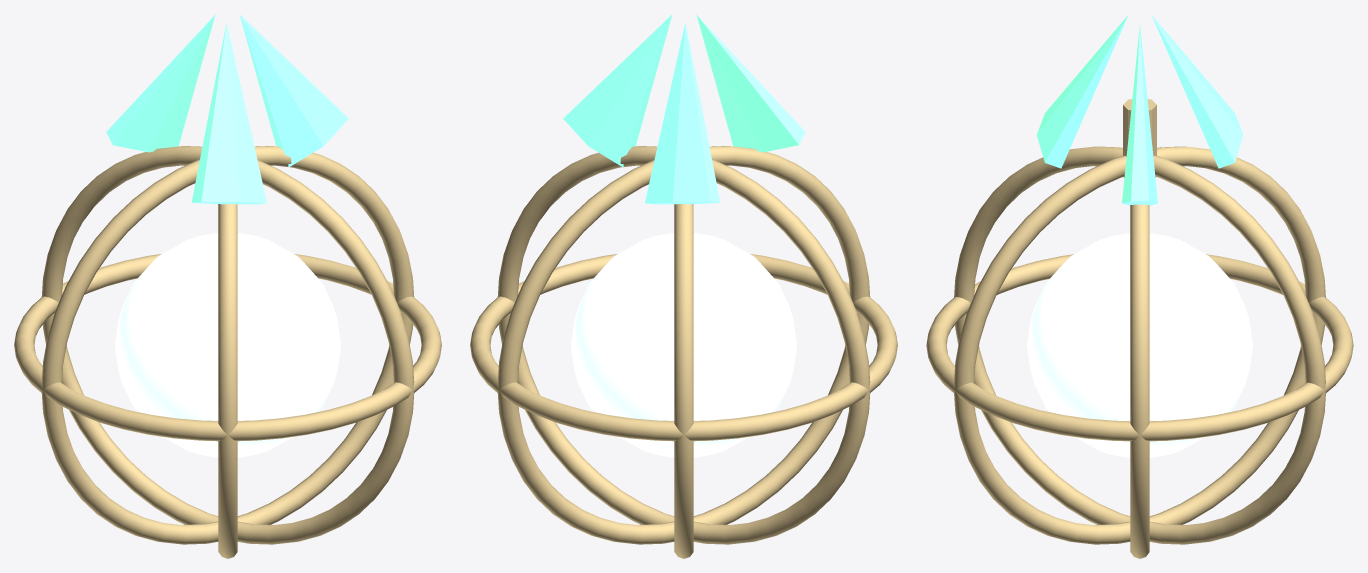
File: relic_2.glb
3 views of the same model, side by side, from view 1: azimuth 30°, elevation 25°; view 2: azimuth 150°, elevation 25°; view 3: azimuth 270°, elevation 25° (orthographic).
Visible parts, largest first — view 1: Sphere; view 2: Sphere; view 3: Sphere.
Boxes of the visible parts, x1,y1,x2,y2 form: Sphere: (14, 14, 441, 558); Sphere: (470, 14, 897, 558); Sphere: (926, 15, 1353, 558).
Size of the model in its own units: 0.8163 by 1.1 by 0.8163.
